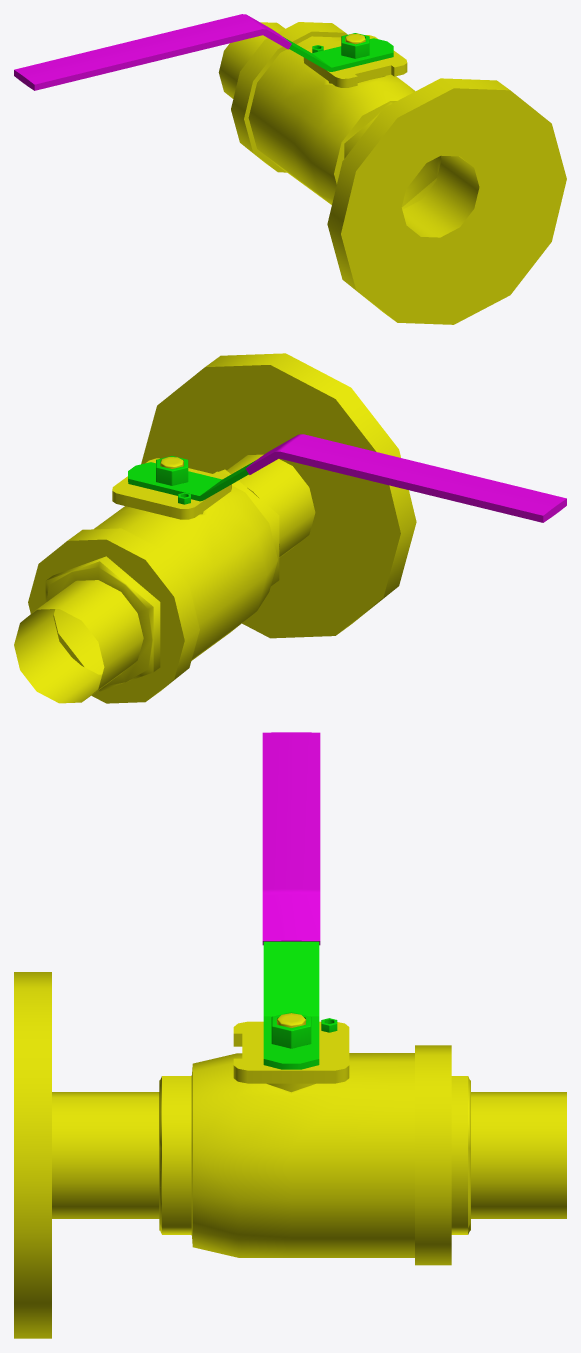
The model's file is Valvula_1.fbx.
The picture shows the model from 3 angles, top to bottom: view 1: azimuth 30°, elevation 25°; view 2: azimuth 150°, elevation 25°; view 3: azimuth 270°, elevation 25°; orthographic projection. The views are drawn at different scales.
Visible parts, largest first — view 1: Valve_body, Valve_handle; view 2: Valve_body, Valve_handle; view 3: Valve_body, Valve_handle.
Part boxes in pixels (box(x1,y1,x2,y2)): Valve_body: box(218, 22, 566, 324); Valve_handle: box(14, 14, 393, 90); Valve_body: box(14, 353, 416, 703); Valve_handle: box(128, 434, 566, 522); Valve_body: box(14, 972, 566, 1338); Valve_handle: box(262, 732, 320, 1069).
Size of the model in its own units: 82.96 by 45.82 by 63.42.
